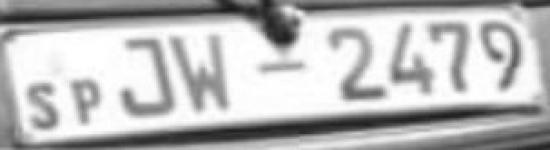-: (251, 56, 308, 78)
2: (320, 23, 388, 103)
4: (387, 21, 437, 98)
7: (426, 16, 474, 94)
9: (475, 18, 531, 96)
J: (115, 33, 177, 118)
P: (64, 75, 105, 130)
S: (24, 78, 63, 129)
W: (169, 31, 238, 114)
